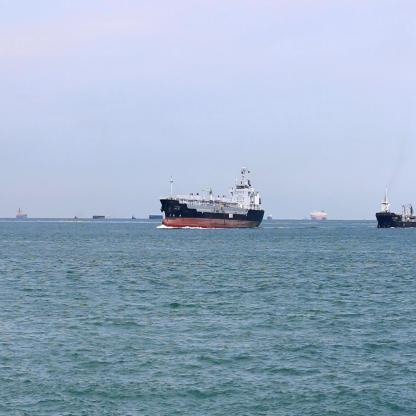Container Ship: (158, 166, 266, 230), (374, 182, 416, 230), (310, 210, 329, 222), (377, 196, 390, 212), (14, 206, 27, 222)
